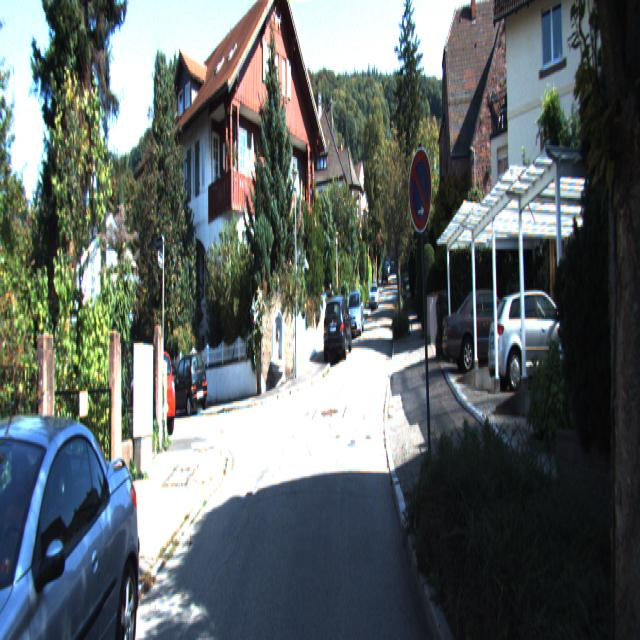Car: (0, 382, 145, 638), (486, 282, 592, 393), (442, 284, 533, 376), (125, 348, 176, 442), (168, 346, 208, 426), (323, 294, 352, 364), (347, 280, 365, 328)
